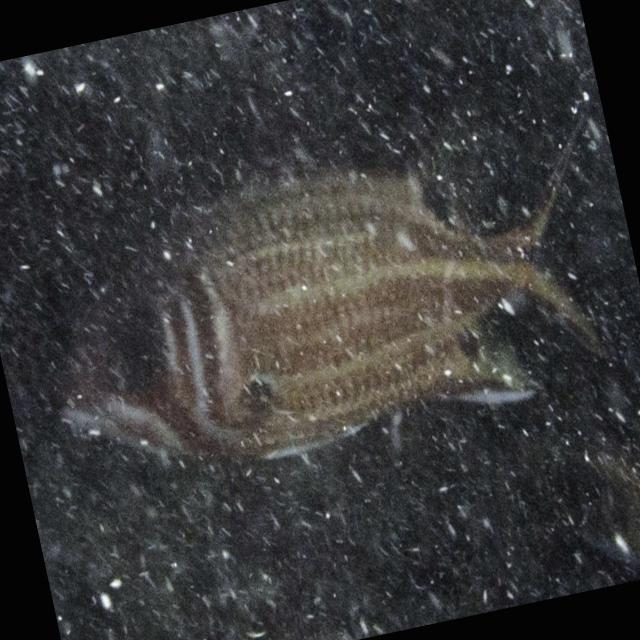Asker Baligi: (20, 112, 618, 506)
